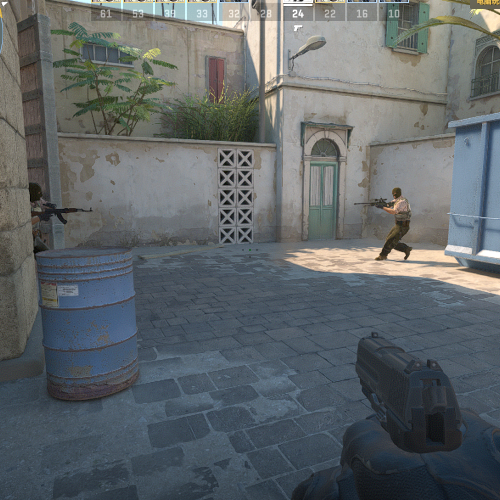t_body: (376, 188, 413, 262)
t_head: (29, 181, 43, 204), (391, 187, 402, 200)
